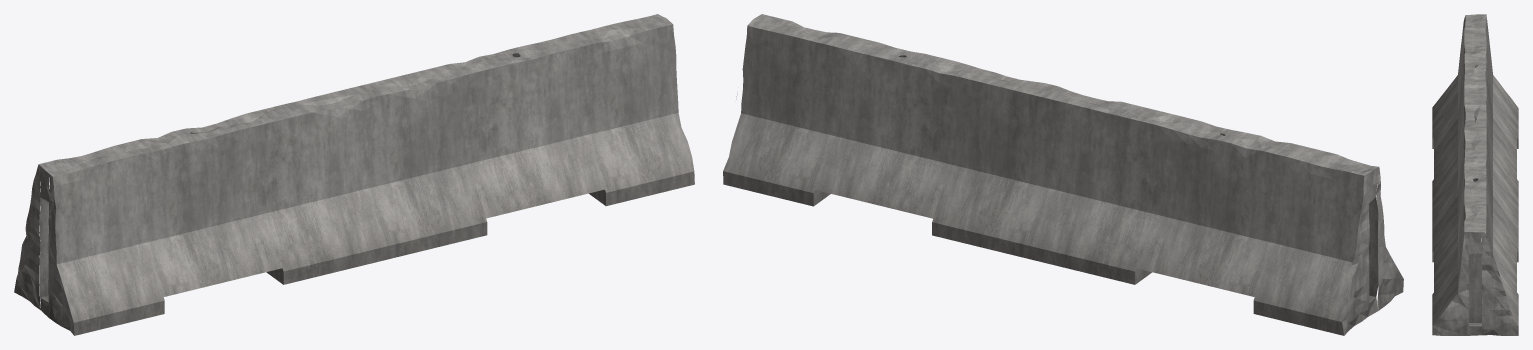
The model's file is detail-barrier-strong-type-a.glb.
3 renders of one model, left to right at view 1: azimuth 30°, elevation 25°; view 2: azimuth 150°, elevation 25°; view 3: azimuth 270°, elevation 25°, orthographic. The views are drawn at different scales.
Visible parts, largest first — view 1: detail-barrier-strong-type-a2; view 2: detail-barrier-strong-type-a2; view 3: detail-barrier-strong-type-a2.
Boxes of the visible parts, bbox=[...] form: detail-barrier-strong-type-a2: bbox=[14, 14, 694, 335]; detail-barrier-strong-type-a2: bbox=[723, 14, 1403, 335]; detail-barrier-strong-type-a2: bbox=[1432, 14, 1518, 335].
Size of the model in its own units: 0.5834 by 0.1287 by 0.0968.
Materials: 1 (1 with a texture image).
